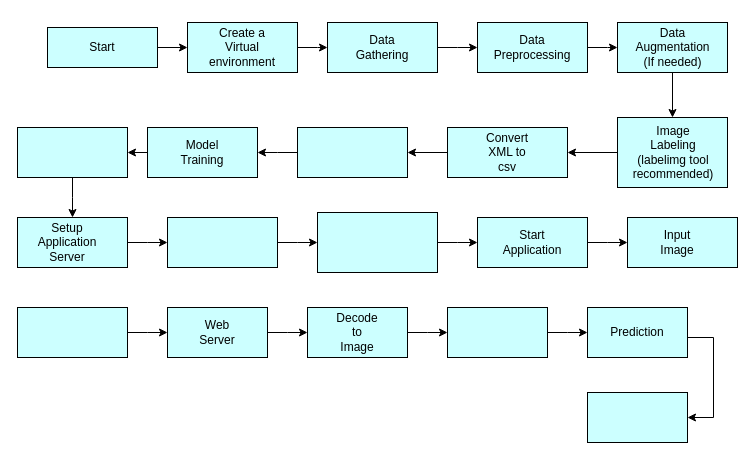
This 755x460 diagram has some shape labels left out. The centre of each missing label's shape, as x and y in pixels:
"Conversion of .ckpt to .pb" goes at pixel 72 152.
"Encode to base64" goes at pixel 72 332.
"Generate tf record" goes at pixel 352 152.
"Model Input" goes at pixel 497 332.
"Pushing App to Cloud" goes at pixel 377 242.
"Result" goes at pixel 637 417.
"Setup Cloud" goes at pixel 222 242.
